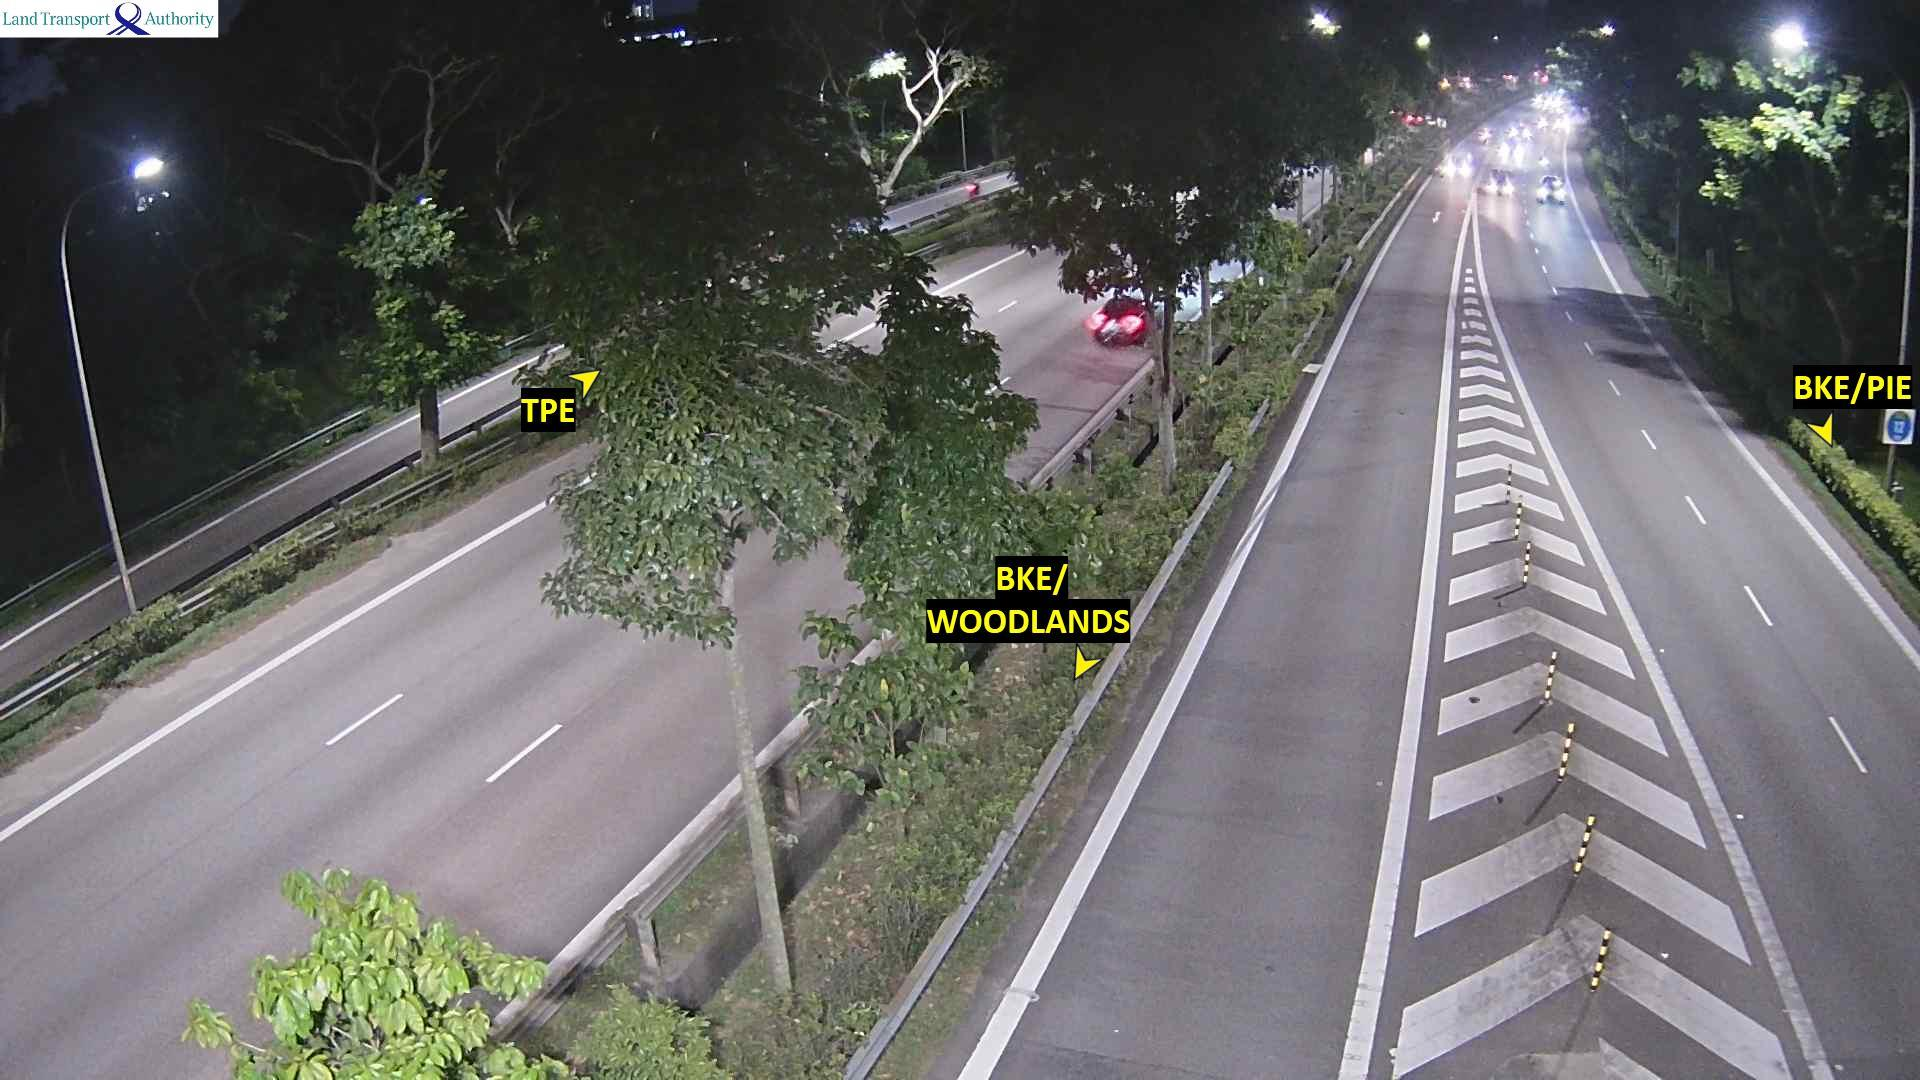cars: (1084, 292, 1152, 347), (1435, 148, 1474, 178), (1475, 168, 1514, 196), (1535, 174, 1566, 205), (1505, 119, 1530, 142), (1501, 144, 1526, 164)
motorcycle: (1538, 149, 1553, 170)
